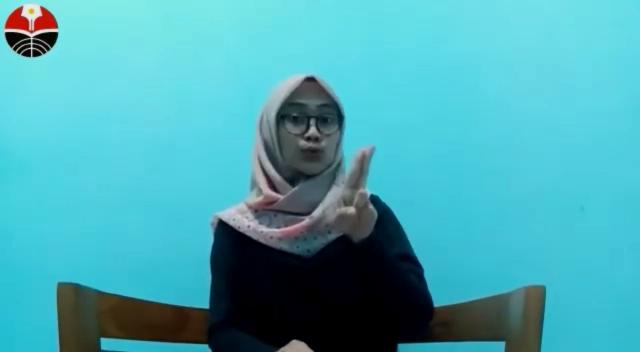U: (333, 140, 383, 228)
